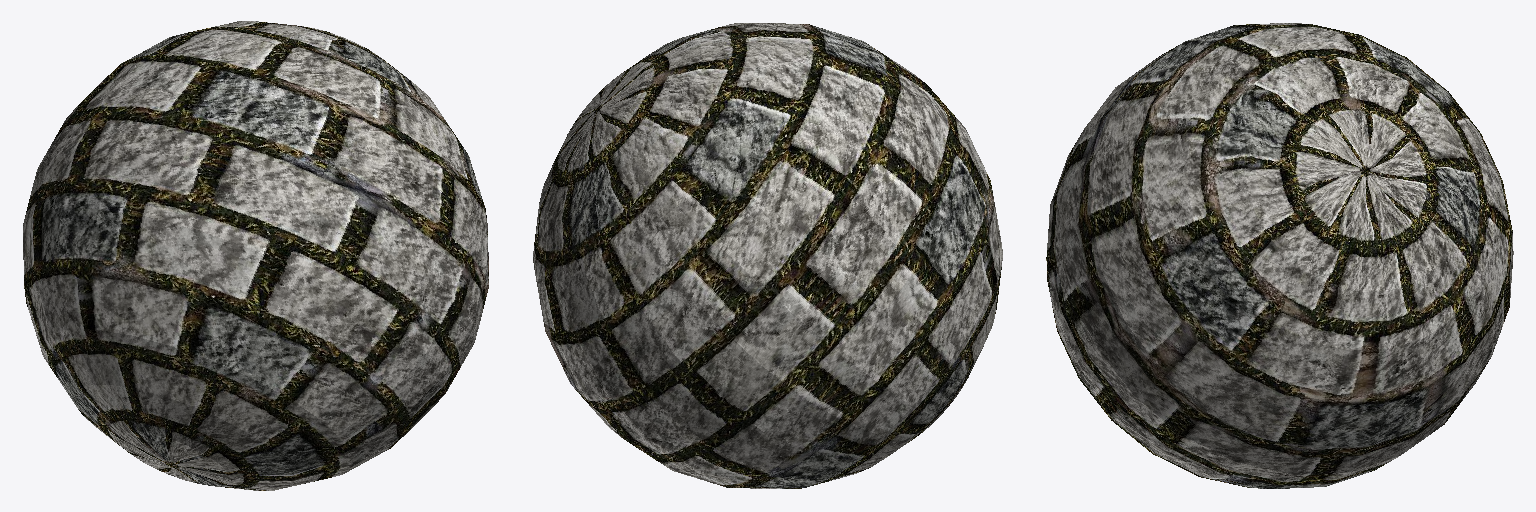
3 renders of one model, left to right at view 1: azimuth 30°, elevation 25°; view 2: azimuth 150°, elevation 25°; view 3: azimuth 270°, elevation 25°, orthographic.
Parts seen in each view (by area): view 1: ����; view 2: ����; view 3: ����.
Part boxes in pixels (left/top/right/bottom): ����: left=23, top=21, right=488, bottom=490; ����: left=533, top=23, right=1002, bottom=488; ����: left=1046, top=23, right=1513, bottom=488.
Bounding box in the file's own units: 77.95 × 78.65 × 78.1.
Materials: 1 (1 with a texture image).